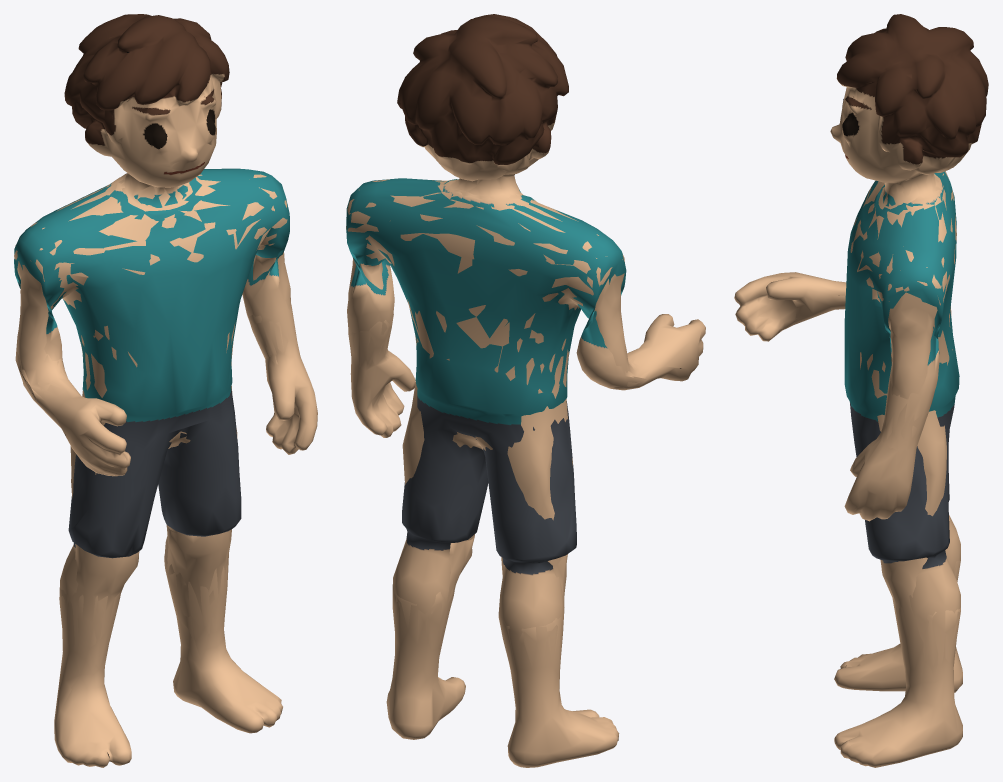
The model's file is adult__v01.glb.
The picture shows the model from 3 angles, left to right: view 1: azimuth 30°, elevation 25°; view 2: azimuth 150°, elevation 25°; view 3: azimuth 270°, elevation 25°; orthographic projection. The views are drawn at different scales.
Parts seen in each view (by area): view 1: outfit_clothed, outfit_bath; view 2: outfit_clothed, outfit_bath; view 3: outfit_bath, outfit_clothed.
Boxes of the visible parts, x1,y1,x2,y2 form: outfit_clothed: (14, 30, 308, 759); outfit_bath: (14, 14, 317, 767); outfit_clothed: (346, 56, 673, 731); outfit_bath: (346, 14, 705, 767); outfit_bath: (734, 14, 988, 767); outfit_clothed: (735, 95, 960, 766).
Bounding box in the file's own units: 0.7154 × 1.7 × 0.5643.
Materials: 2 (2 with a texture image).
